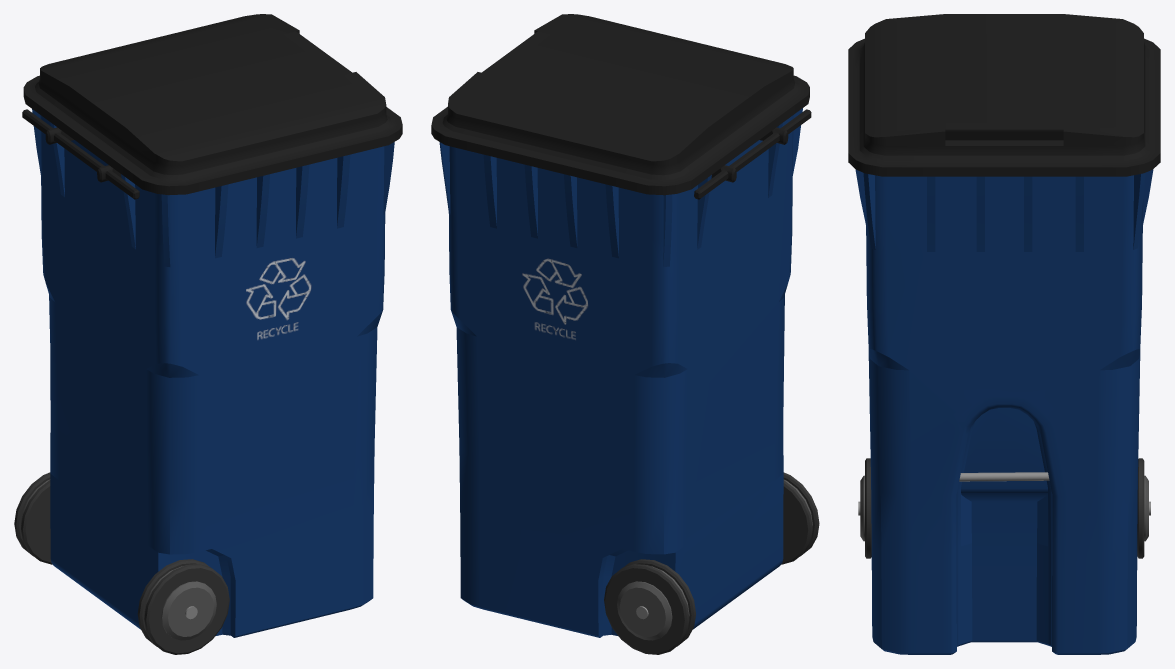
File: trashcan2WTextures.fbx
The picture shows the model from 3 angles, left to right: view 1: azimuth 30°, elevation 25°; view 2: azimuth 150°, elevation 25°; view 3: azimuth 270°, elevation 25°; orthographic projection. The views are drawn at different scales.
Parts seen in each view (by area): view 1: pCylinder5; view 2: pCylinder5; view 3: pCylinder5.
Boxes of the visible parts, x1=… form: pCylinder5: x1=14, y1=14, x2=402, y2=654; pCylinder5: x1=431, y1=14, x2=819, y2=654; pCylinder5: x1=848, y1=14, x2=1160, y2=654.
Bounding box in the file's own units: 2.21 × 3.95 × 2.12.
